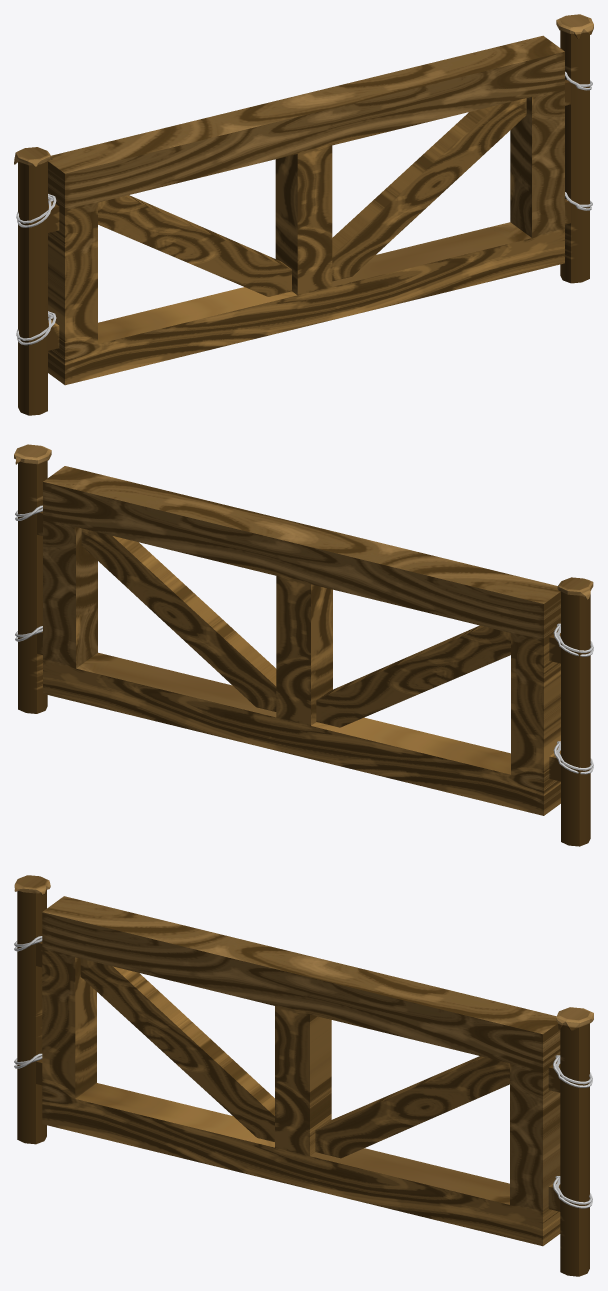
The model's file is doodad_hedge_mesh.fbx.
3 renders of one model, top to bottom at view 1: azimuth 30°, elevation 25°; view 2: azimuth 150°, elevation 25°; view 3: azimuth 330°, elevation 25°, orthographic.
Parts seen in each view (by area): view 1: doodad_hedge_mesh; view 2: doodad_hedge_mesh; view 3: doodad_hedge_mesh.
Boxes of the visible parts, <box> form: doodad_hedge_mesh: <box>14,14,593,415</box>; doodad_hedge_mesh: <box>14,444,593,846</box>; doodad_hedge_mesh: <box>14,875,593,1276</box>.
Bounding box in the file's own units: 10.8 × 4.61 × 0.7123.
